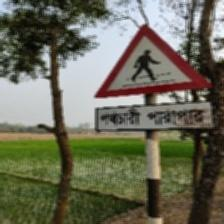Pedestrian-crossing: (93, 22, 215, 134)
